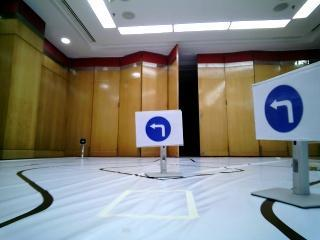left: (255, 79, 320, 136), (139, 111, 187, 148)
